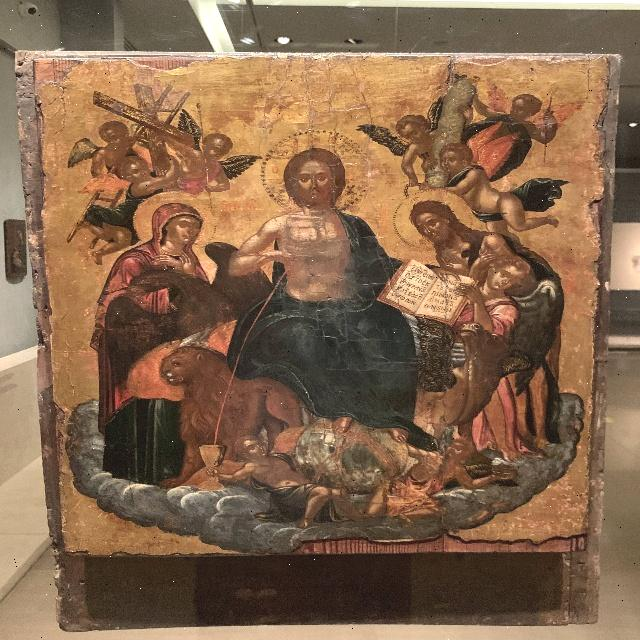angel: (468, 80, 591, 168), (73, 156, 180, 245), (429, 139, 555, 201), (369, 95, 447, 186), (166, 122, 255, 191), (69, 119, 146, 167)
aura: (259, 133, 370, 211), (137, 193, 222, 247), (395, 192, 475, 244)
blood: (192, 256, 298, 460)
book: (386, 267, 478, 309)
christ: (230, 118, 392, 407)
cross: (99, 84, 195, 169)
eagle: (99, 242, 274, 366)
lion: (152, 349, 292, 451)
mary: (99, 207, 221, 469)
orb: (297, 418, 410, 490)
saint: (408, 200, 565, 447)
wing: (360, 115, 409, 159), (535, 93, 588, 129), (480, 77, 525, 115), (429, 80, 451, 126)
